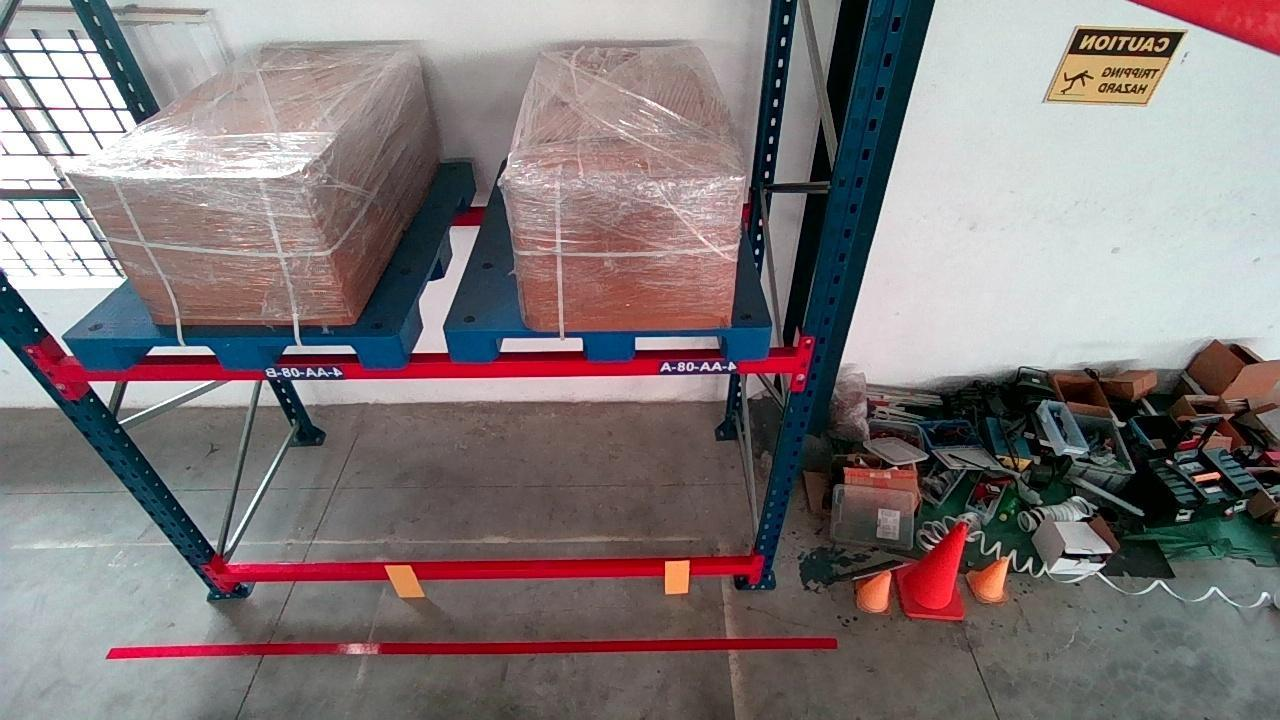h_rack: (65, 341, 801, 382), (220, 560, 754, 586)
orange_strip: (386, 563, 424, 597), (667, 563, 690, 592)
red_line: (110, 630, 827, 662)
small_pallet: (83, 334, 401, 370), (456, 327, 773, 360)
